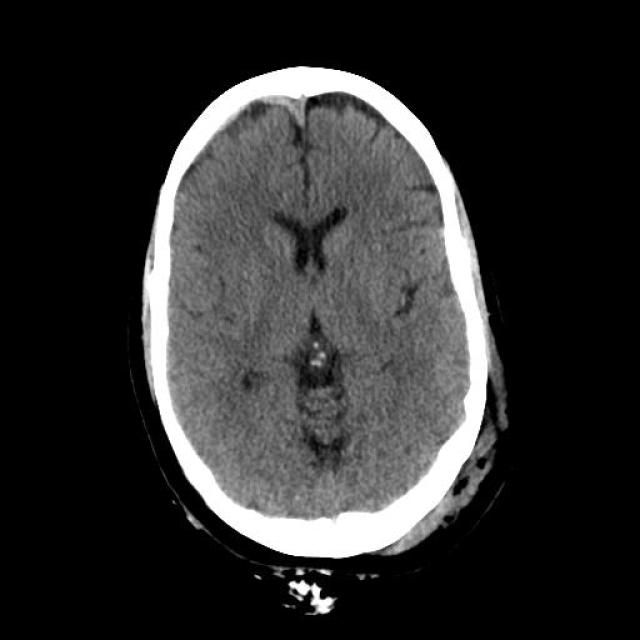Subdural: (230, 58, 329, 138)
